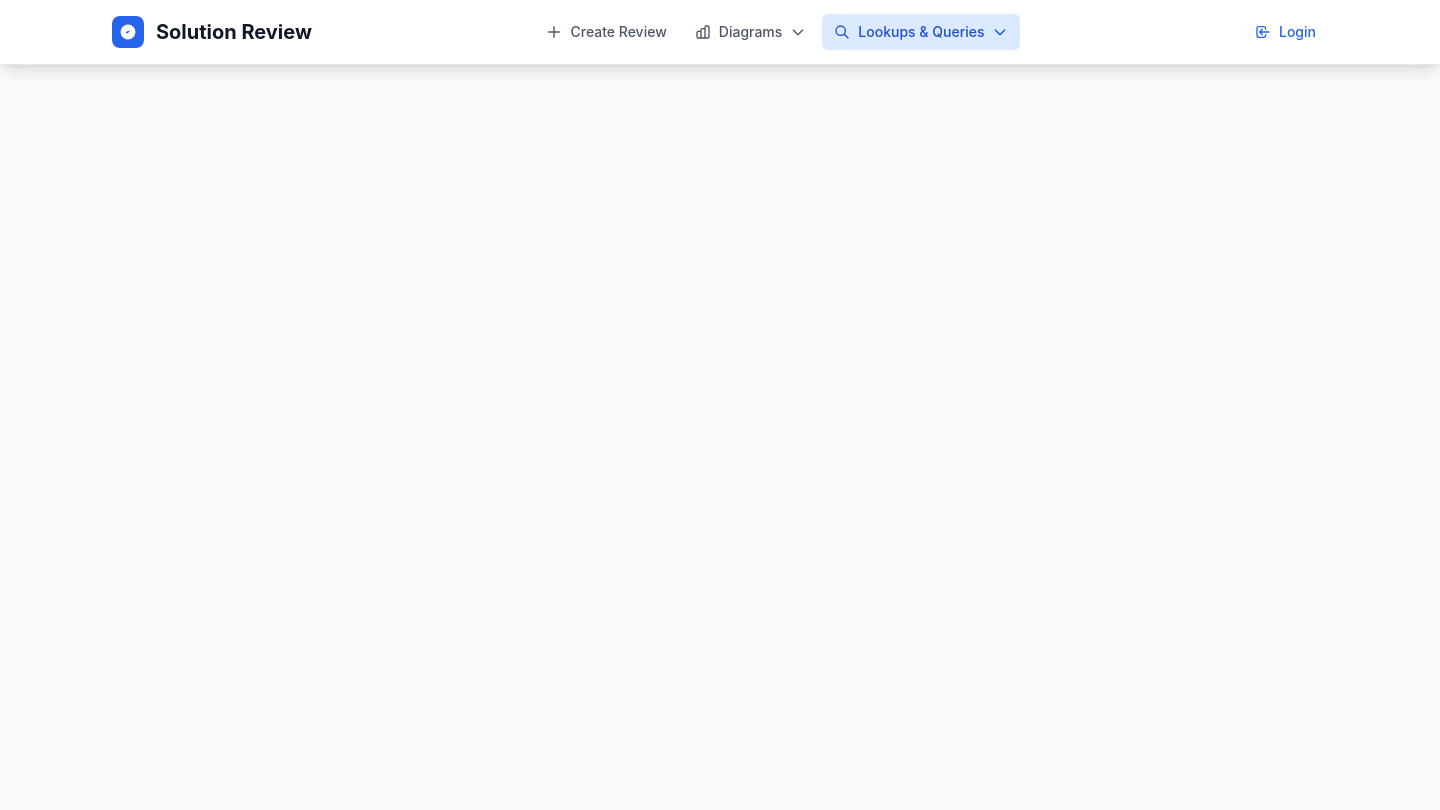
Test: Navbar › Query & Lookup Dropdown › closes dropdown when clicking backdrop
Click the button "Lookups & Queries".
click(921, 32)  # box x1=822 y1=14 x2=1020 y2=50
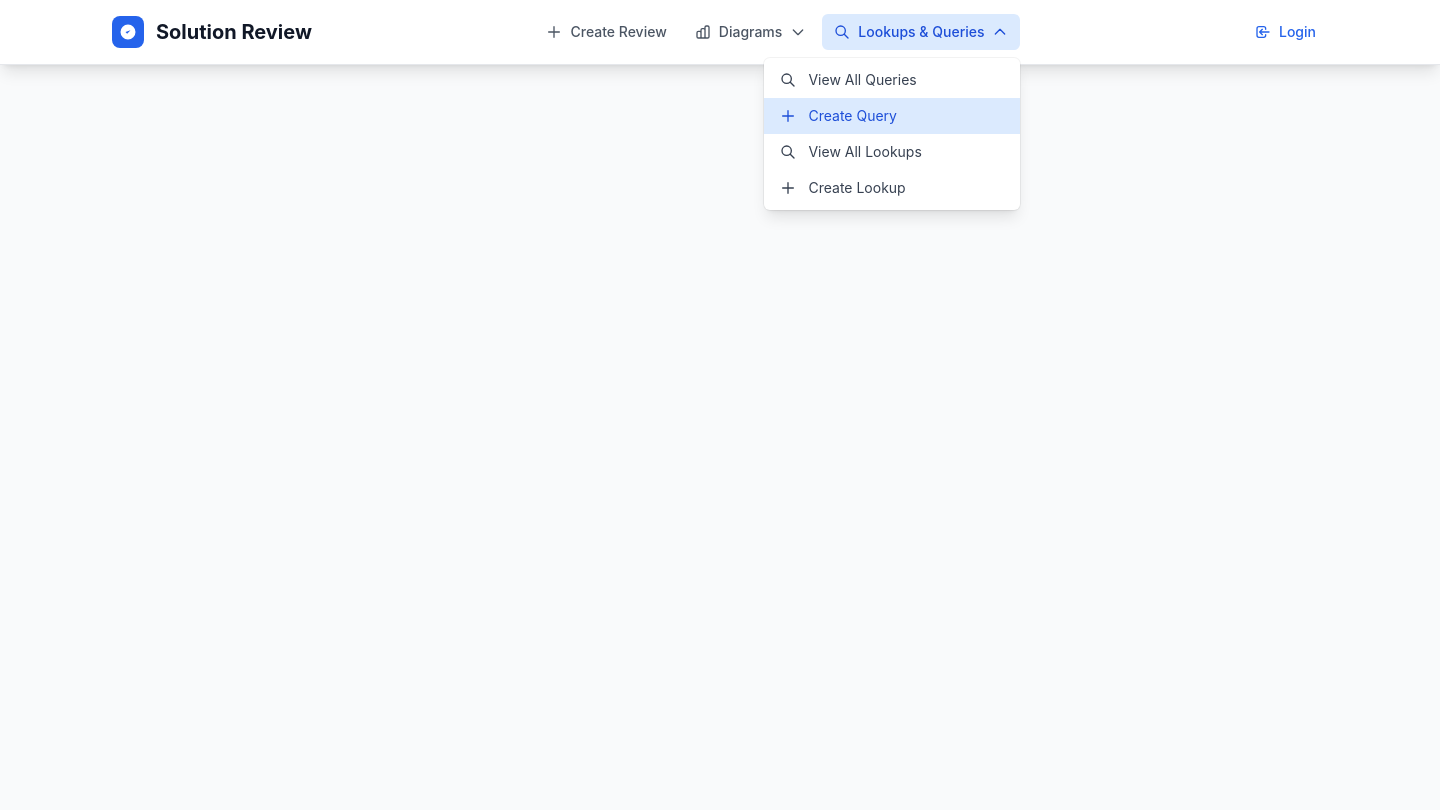
Check: the text "View All Queries" is shown, box x1=808 y1=70 x2=917 y2=90
Click the element with class "z-40".
click(720, 405)  # box x1=0 y1=0 x2=1439 y2=809
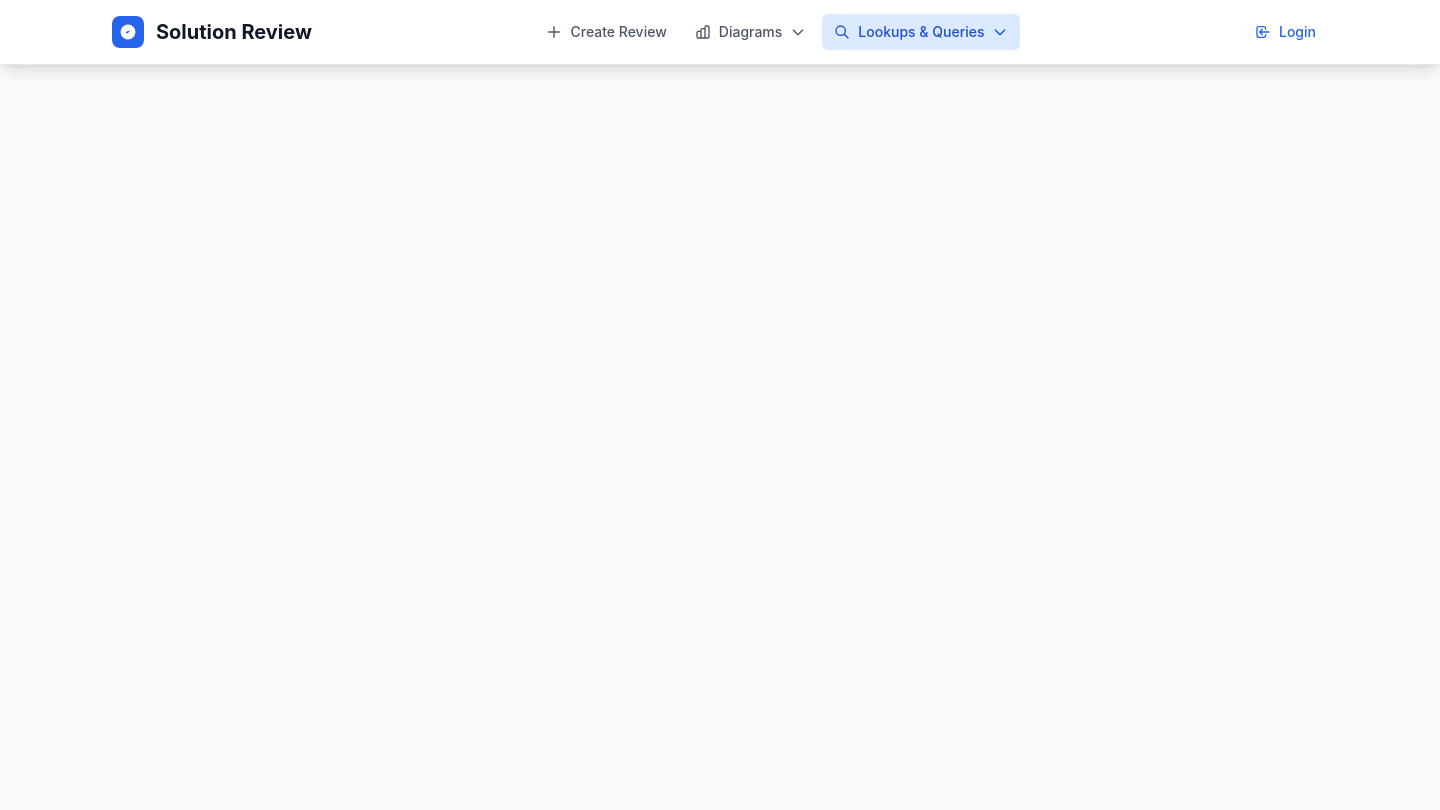
Check: the button "View All Queries" is gone
